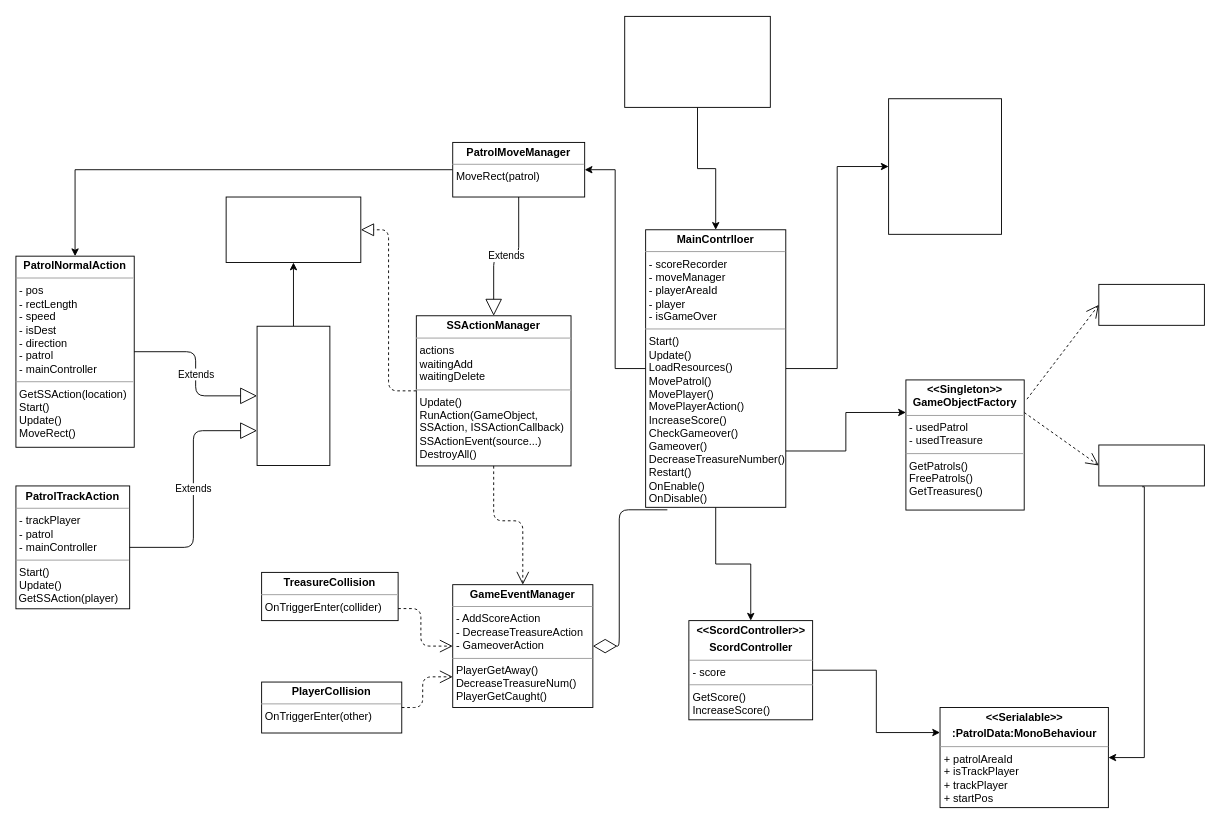
Image size: 1227x824. Some labels were removed from this diagram. Each missing label, with the centre of its shape:
<<Interface>> ISSActionCallback SSActionEvent(source...): (293,229)
<<Prefab>> Patrol:GameObject: (1151,465)
<<Prefab>> Treasure:GameObject: (1151,304)
Director - instance + mainController + GetInstance(): (697,61)
SSAction enable destroy gameObject transform callback Start() Update: (293,395)
View - mainController Start() Update() OnGUI() Move() ShowScore() ShowRules(): (944,166)
